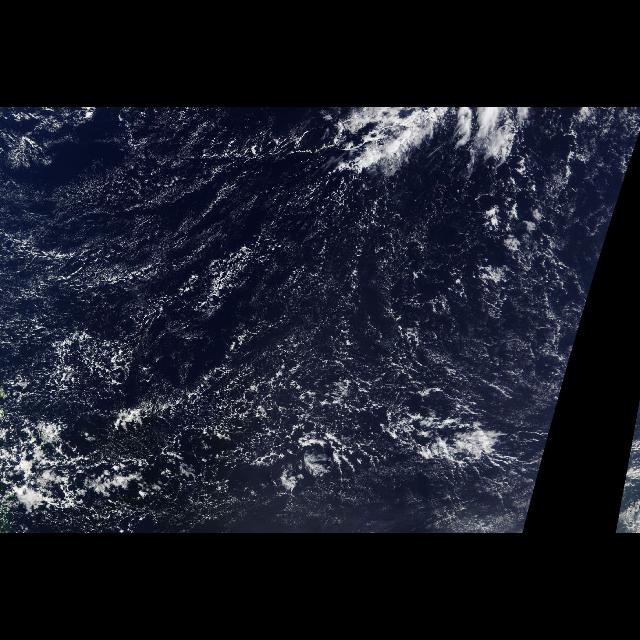Gravel: (1, 338, 440, 528)
Sugar: (5, 163, 272, 319)
